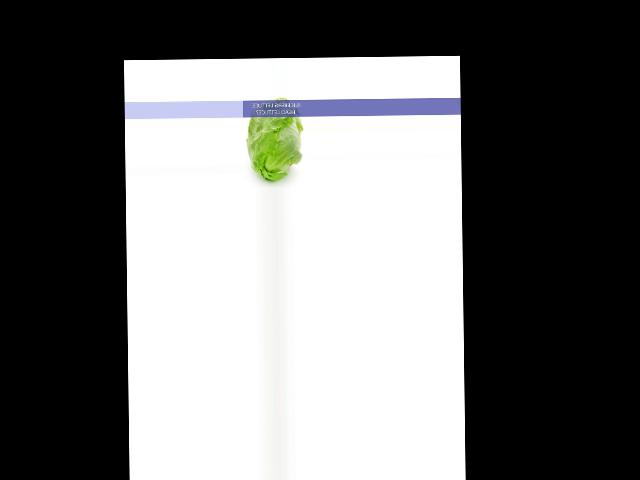lettuce: (248, 97, 303, 185)
